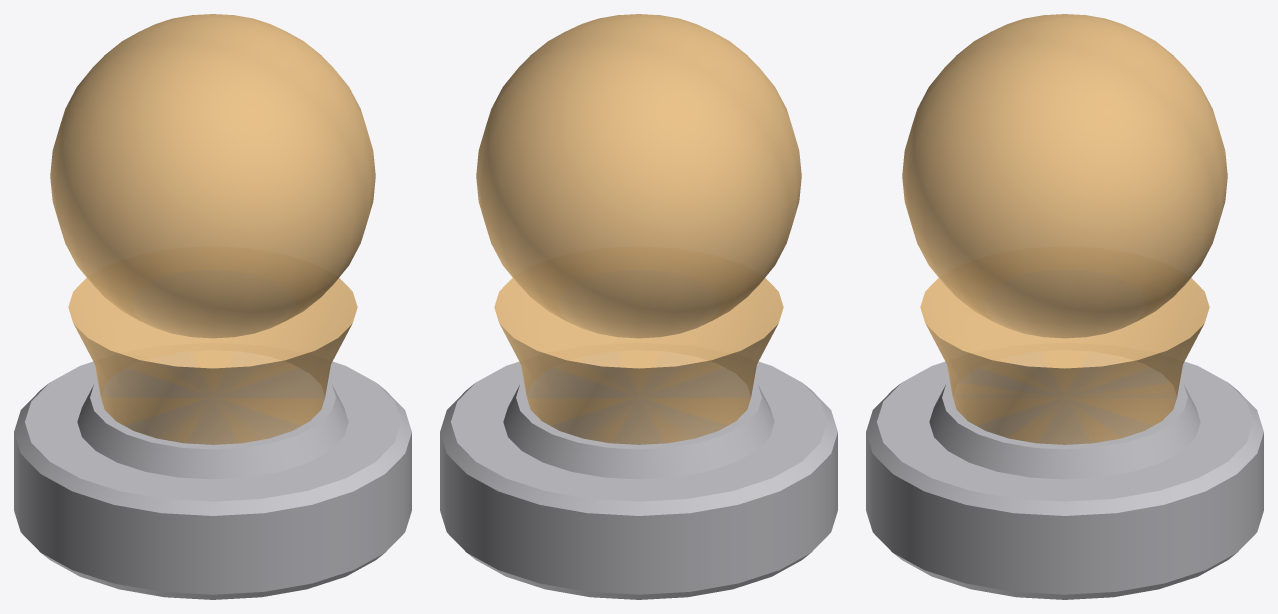
Rendered from Ampoule_Simple.fbx.
The picture shows the model from 3 angles, left to right: view 1: azimuth 30°, elevation 25°; view 2: azimuth 150°, elevation 25°; view 3: azimuth 270°, elevation 25°; orthographic projection.
Parts seen in each view (by area): view 1: Ampoule_Simple; view 2: Ampoule_Simple; view 3: Ampoule_Simple.
Boxes of the visible parts, box(x1,y1,x2,y2) form: Ampoule_Simple: box(14, 14, 411, 599); Ampoule_Simple: box(440, 14, 837, 599); Ampoule_Simple: box(866, 14, 1263, 599).
Size of the model in its own units: 0.22 by 0.3 by 0.22.
